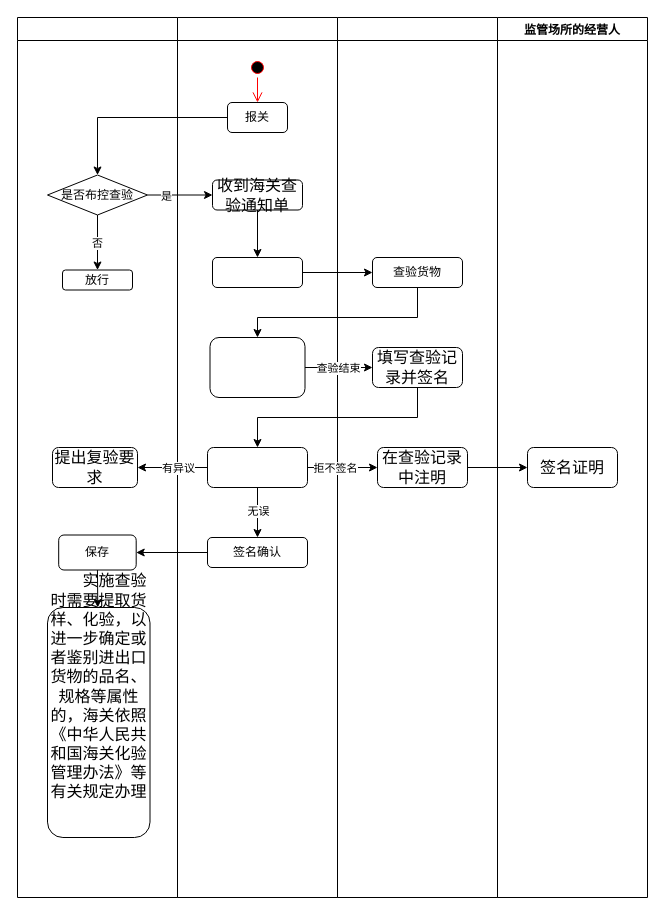
This 665x915 diagram has some shape labels left out. The shapes that lost their labels are listed below. From the top down, each one's box as (x1, y1, x2, y2) in pixels, then its label:
(212, 256, 302, 288): 办理查验手续
(209, 336, 305, 398): 到场搬运货物等，回答查验人员的询问以及提供必要的资料
(16, 16, 178, 898): 海关
(176, 16, 338, 898): 进出口货物收发货人或者其代理人
(206, 446, 308, 488): 核对查验记录
(336, 16, 498, 898): 查验人员
